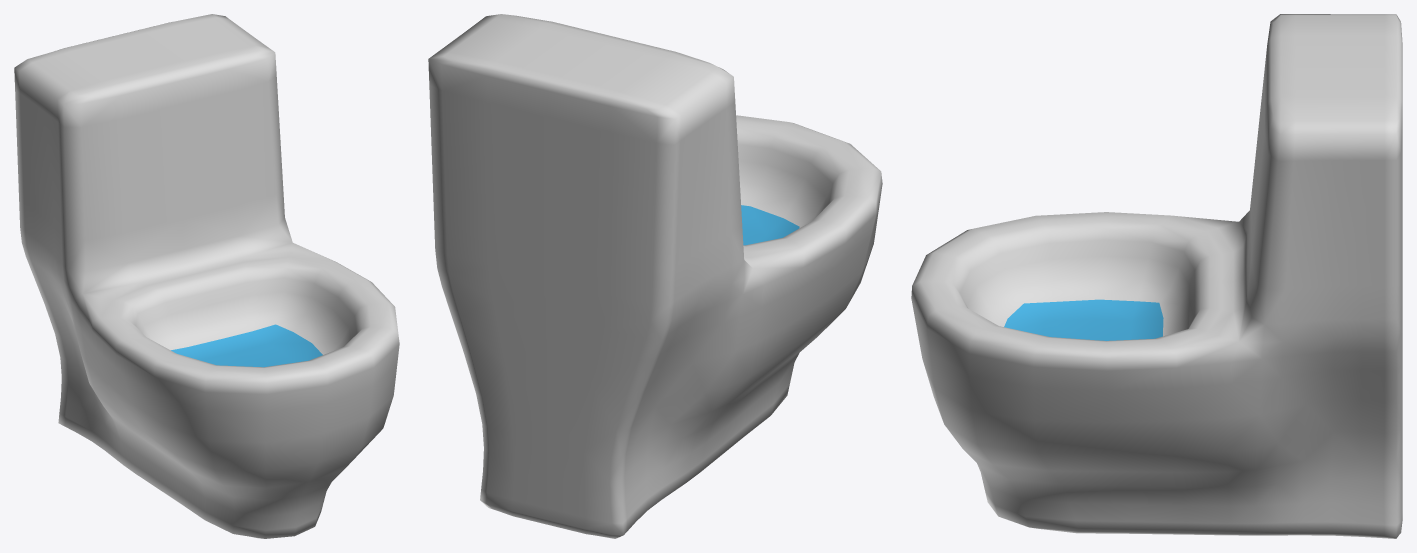
The model's file is toilet.FBX.
3 views of the same model, side by side, from view 1: azimuth 30°, elevation 25°; view 2: azimuth 150°, elevation 25°; view 3: azimuth 270°, elevation 25° (orthographic). The views are drawn at different scales.
Parts seen in each view (by area): view 1: Box012; view 2: Box012; view 3: Box012.
Part boxes in pixels (<box>): Box012: <box>14,14,399,538</box>; Box012: <box>428,14,882,538</box>; Box012: <box>911,14,1402,538</box>.
Bounding box in the file's own units: 30.61 × 43.39 × 43.51.
